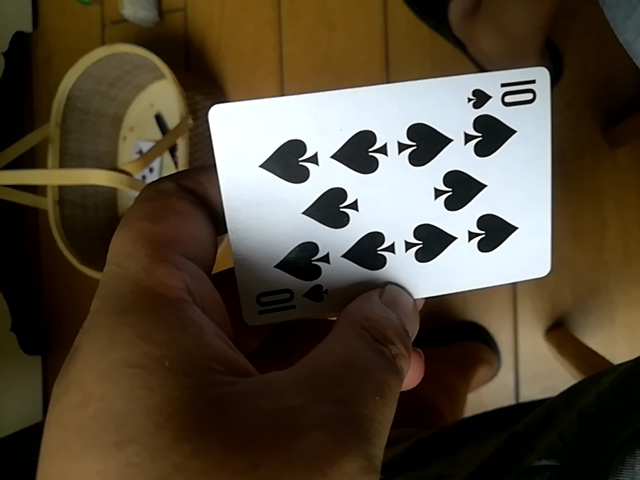ht 10: (215, 59, 551, 319)
